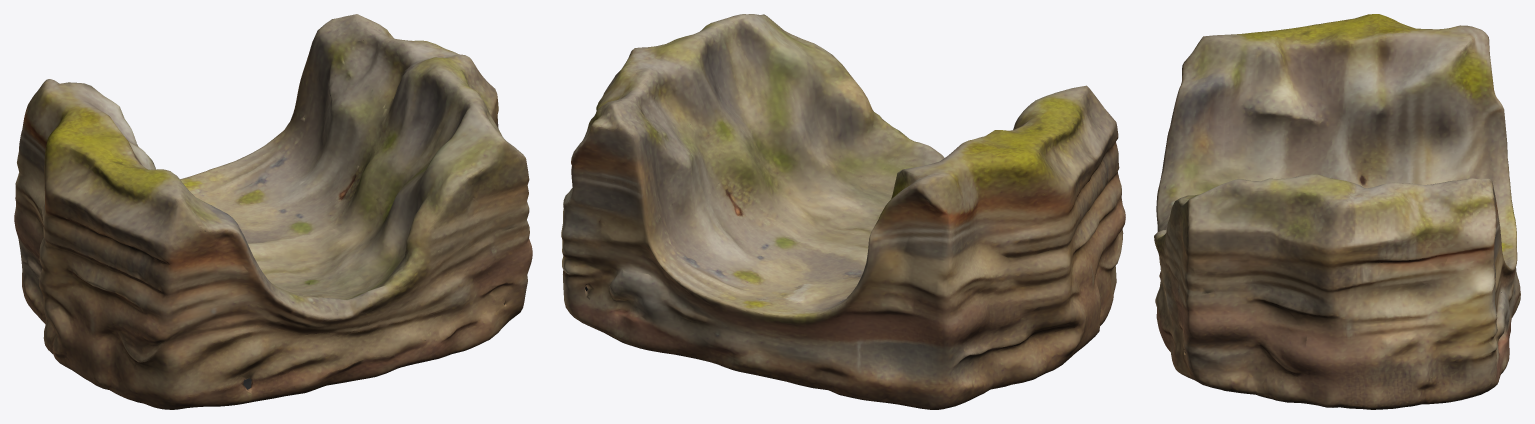
The picture shows the model from 3 angles, left to right: view 1: azimuth 30°, elevation 25°; view 2: azimuth 150°, elevation 25°; view 3: azimuth 270°, elevation 25°; orthographic projection. The views are drawn at different scales.
Visible parts, largest first — view 1: world; view 2: world; view 3: world.
Boxes of the visible parts, x1=… form: world: x1=14, y1=14, x2=532, y2=409; world: x1=561, y1=14, x2=1125, y2=409; world: x1=1154, y1=14, x2=1520, y2=409.
Bounding box in the file's own units: 23 × 11.34 × 16.97.
Materials: 1 (1 with a texture image).
